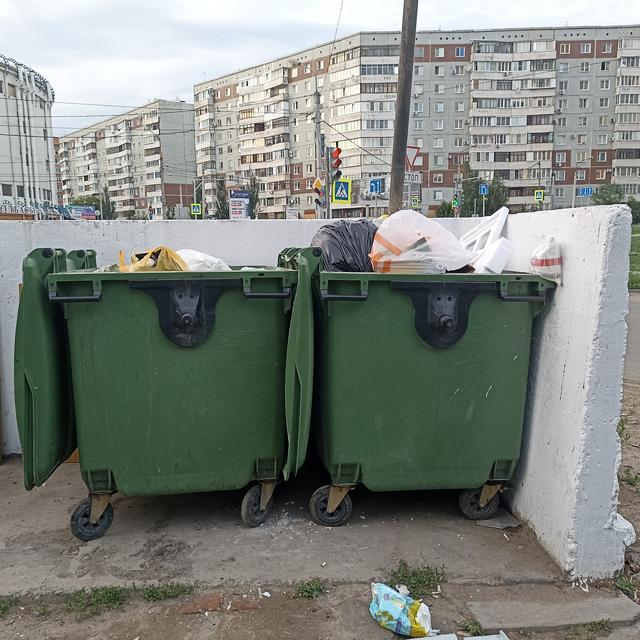Trash_Can_Full: (315, 206, 559, 493), (47, 247, 295, 495)
